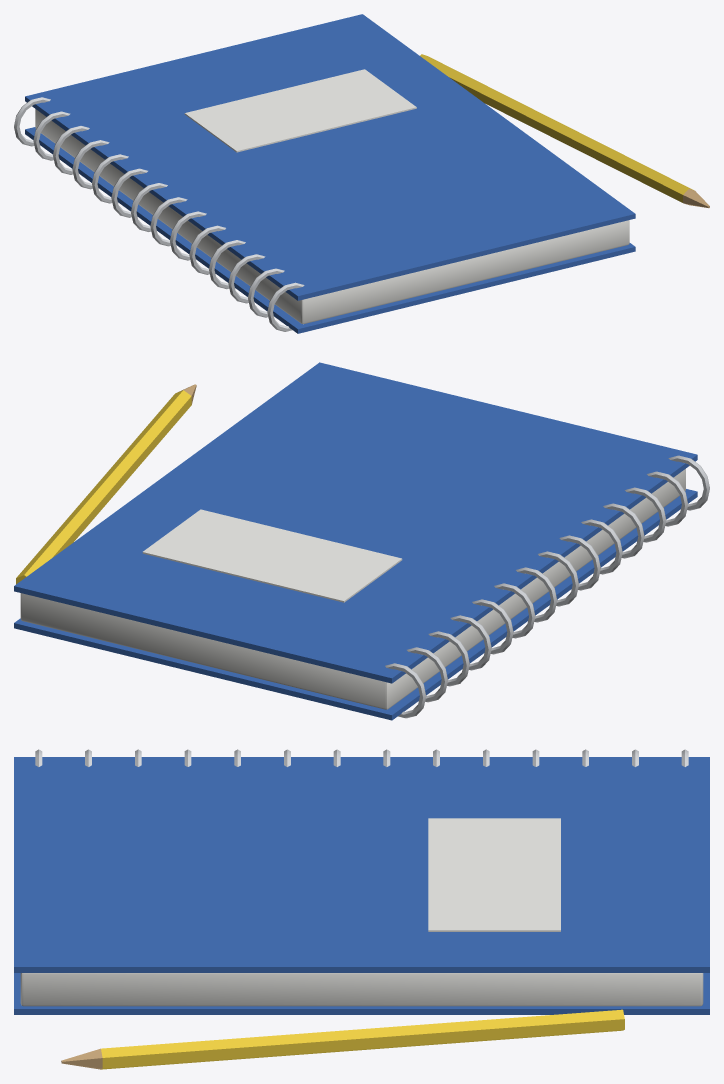
Rendered from notebook.glb.
3 renders of one model, top to bottom at view 1: azimuth 30°, elevation 25°; view 2: azimuth 150°, elevation 25°; view 3: azimuth 270°, elevation 25°, orthographic. The views are drawn at different scales.
Visible parts, largest first — view 1: Notebook; view 2: Notebook; view 3: Notebook.
Part boxes in pixels (x1,y1,x2,y2): Notebook: (14,14,709,333); Notebook: (14,362,709,720); Notebook: (14,749,709,1069).
Bounding box in the file's own units: 0.2011 × 0.0199 × 0.21.
